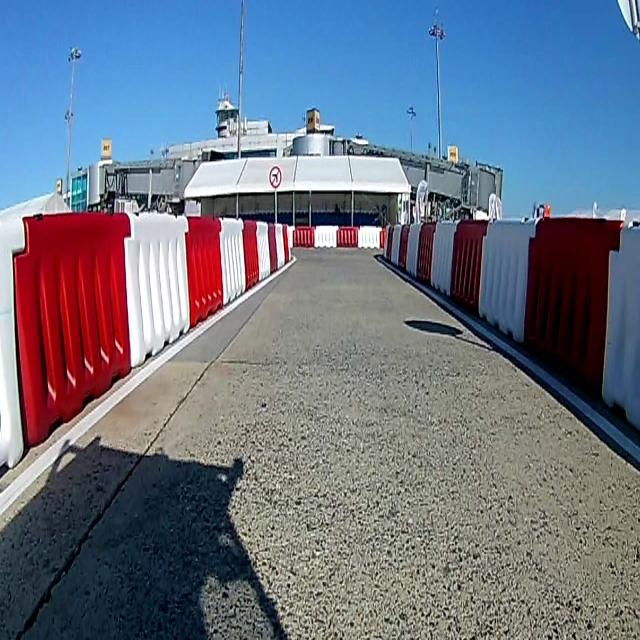soladonulmez: (268, 167, 282, 190)
